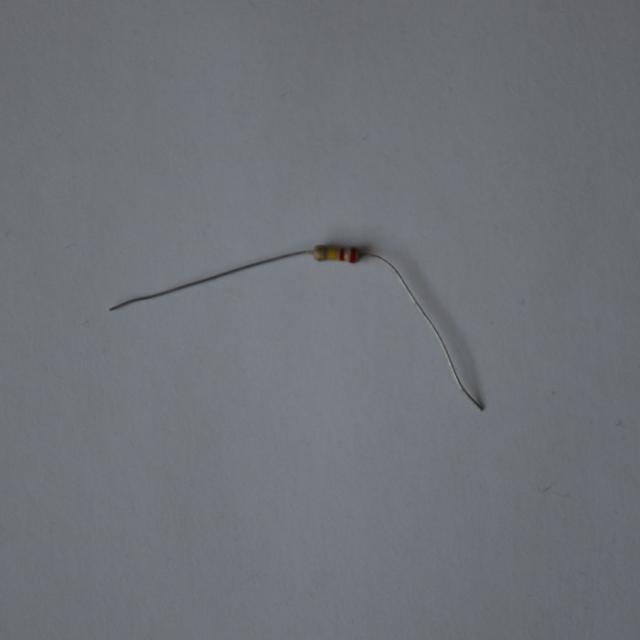gold: (318, 246, 323, 260)
red: (351, 247, 357, 261), (340, 248, 346, 260)
resistor: (309, 242, 367, 266)
yellow: (330, 248, 335, 260)
